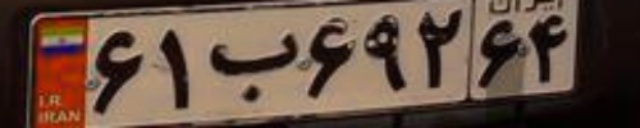1: (157, 29, 193, 110)
2: (415, 9, 461, 89)
4: (527, 14, 569, 84)
6: (88, 28, 146, 114), (305, 16, 355, 99), (478, 18, 521, 89)
9: (362, 13, 406, 92)
be: (209, 31, 299, 104)
